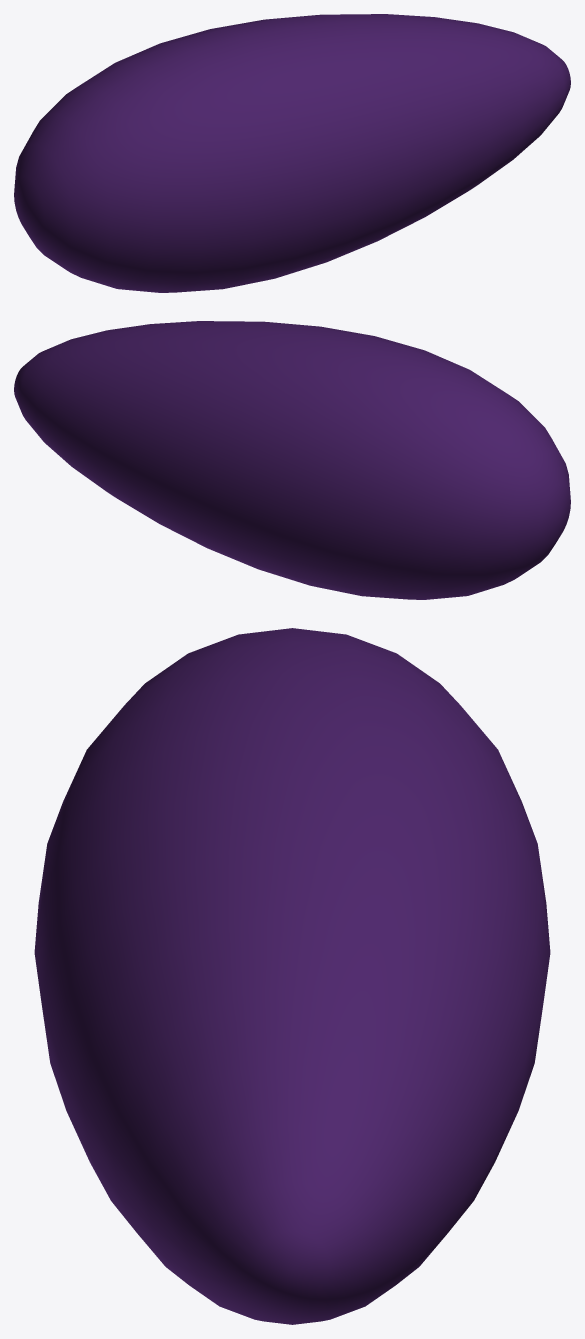
File: Eggplant.fbx
The picture shows the model from 3 angles, top to bottom: view 1: azimuth 30°, elevation 25°; view 2: azimuth 150°, elevation 25°; view 3: azimuth 270°, elevation 25°; orthographic projection. The views are drawn at different scales.
Parts seen in each view (by area): view 1: Eggplant; view 2: Eggplant; view 3: Eggplant.
Boxes of the visible parts, box(x1,y1,x2,y2) form: Eggplant: box(14, 14, 570, 292); Eggplant: box(14, 321, 570, 599); Eggplant: box(34, 628, 550, 1324).
Size of the model in its own units: 0.2 by 0.0823 by 0.0823.
